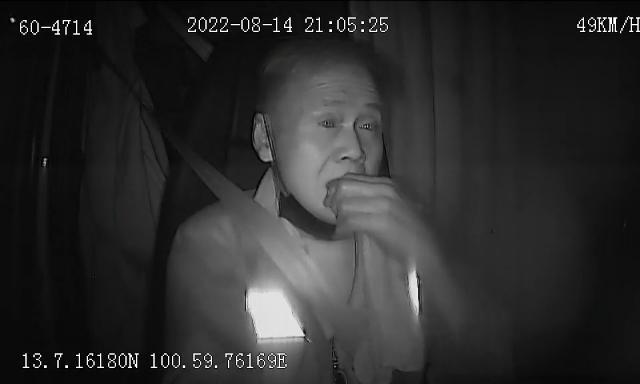SafeDriving: (312, 105, 347, 135), (352, 108, 383, 138)
Seatbelt: (168, 124, 386, 358)
